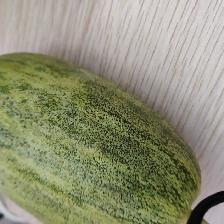gua: (9, 67, 180, 224)
